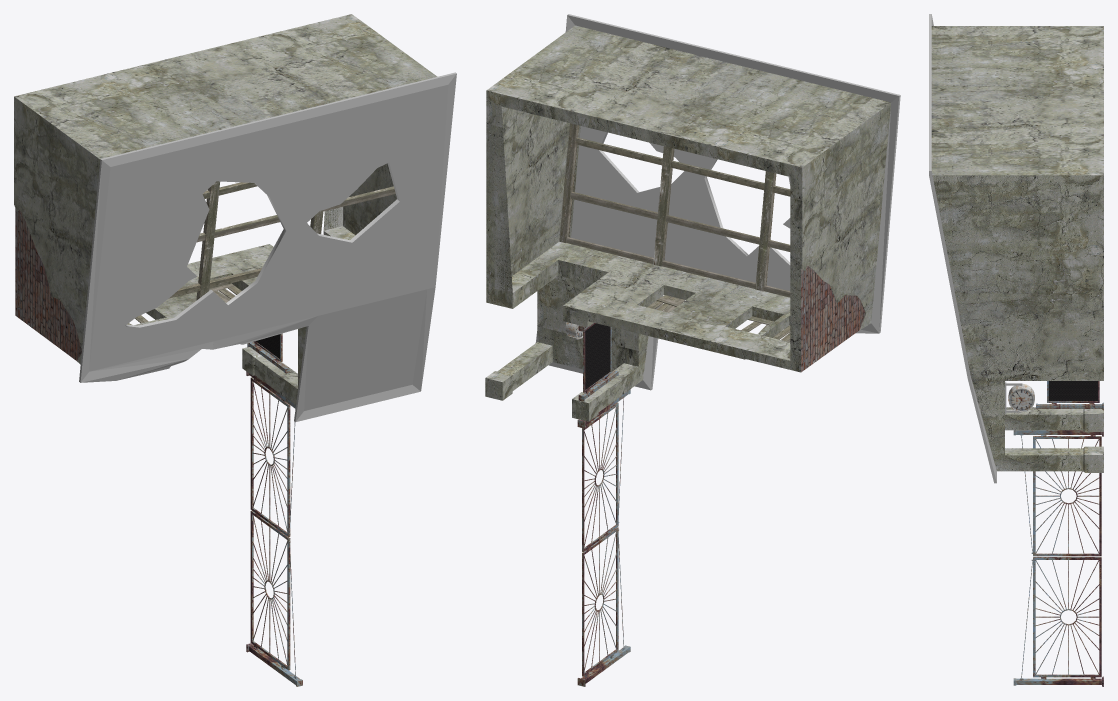
The model's file is pforte.fbx.
3 renders of one model, left to right at view 1: azimuth 30°, elevation 25°; view 2: azimuth 150°, elevation 25°; view 3: azimuth 270°, elevation 25°, orthographic. The views are drawn at different scales.
Visible parts, largest first — view 1: Box011; view 2: Box011; view 3: Box011.
Boxes of the visible parts, x1,y1,x2,y2 form: Box011: (14,14,456,686); Box011: (485,14,900,686); Box011: (929,14,1103,686).
Bounding box in the file's own units: 13.77 × 23.02 × 6.48.
